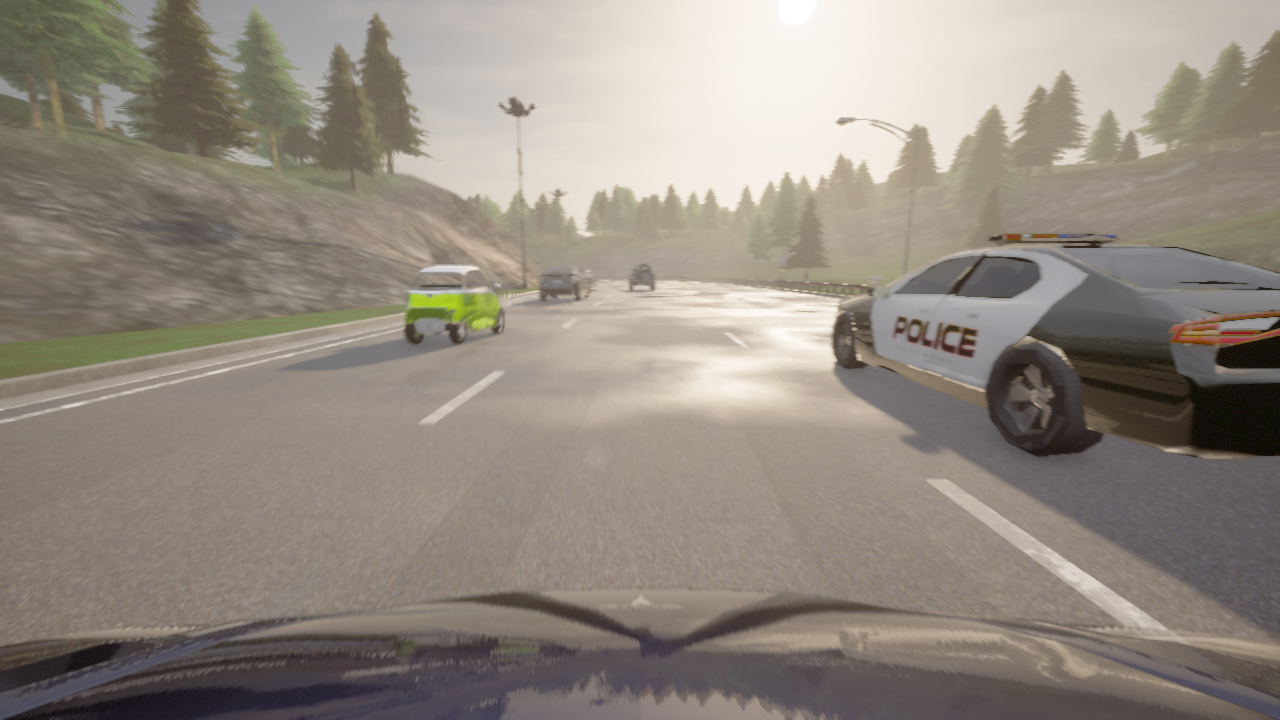cyclist: (0, 588, 1279, 719), (831, 233, 1279, 456), (404, 264, 503, 344), (539, 266, 589, 300), (628, 264, 654, 289), (579, 268, 597, 292)
